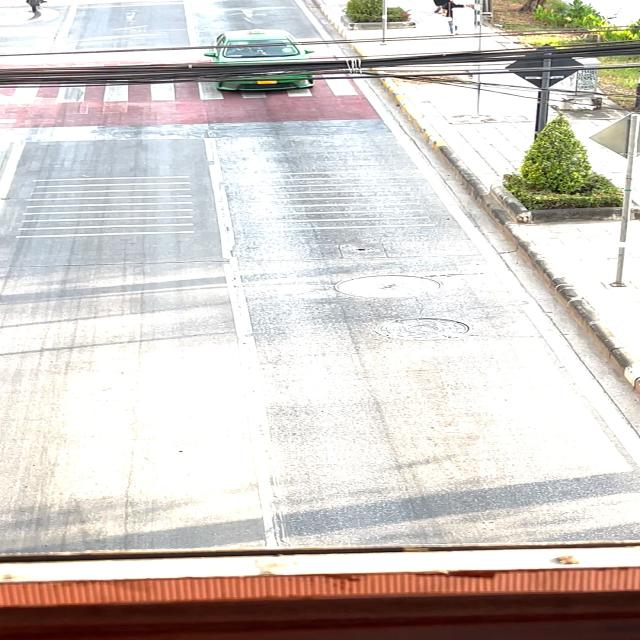car: (208, 19, 333, 111)
